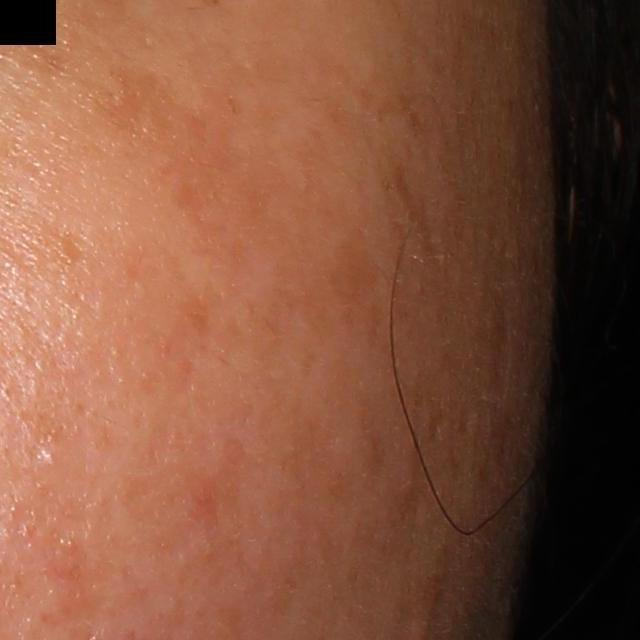melasma: (88, 62, 186, 160), (323, 228, 378, 297)
